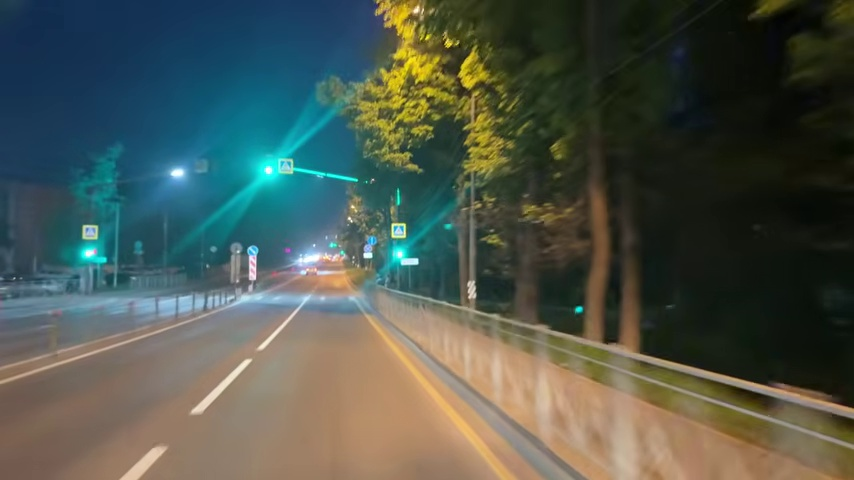acesa: (168, 165, 186, 182)
